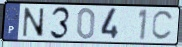0: (75, 7, 96, 41)
1: (137, 8, 148, 42)
3: (47, 6, 73, 41)
4: (99, 7, 122, 42)
C: (150, 9, 176, 42)
N: (22, 6, 45, 39)
